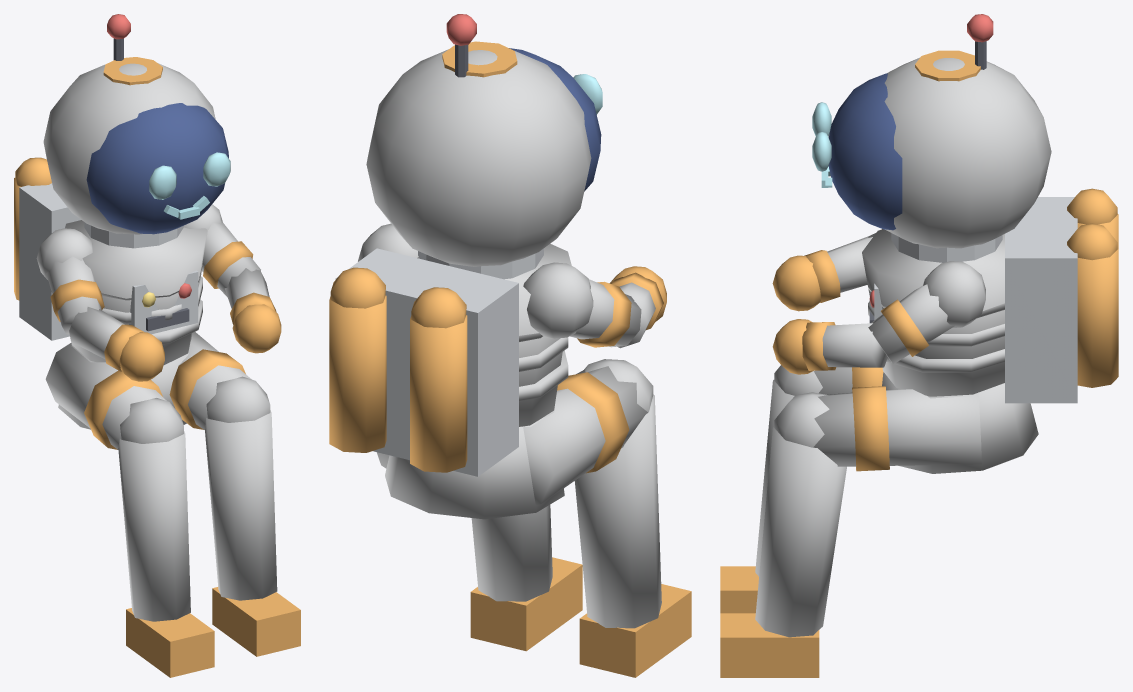
Rendered from meeple_04_astronaut.glb.
3 renders of one model, left to right at view 1: azimuth 30°, elevation 25°; view 2: azimuth 150°, elevation 25°; view 3: azimuth 270°, elevation 25°, orthographic. The views are drawn at different scales.
Visible parts, largest first — view 1: meeple_04_astronaut; view 2: meeple_04_astronaut; view 3: meeple_04_astronaut.
Boxes of the visible parts, x1=… form: meeple_04_astronaut: x1=14, y1=14, x2=300, y2=677; meeple_04_astronaut: x1=329, y1=14, x2=691, y2=677; meeple_04_astronaut: x1=720, y1=14, x2=1118, y2=677.
Size of the model in its own units: 0.5278 by 1.43 by 0.8235.
